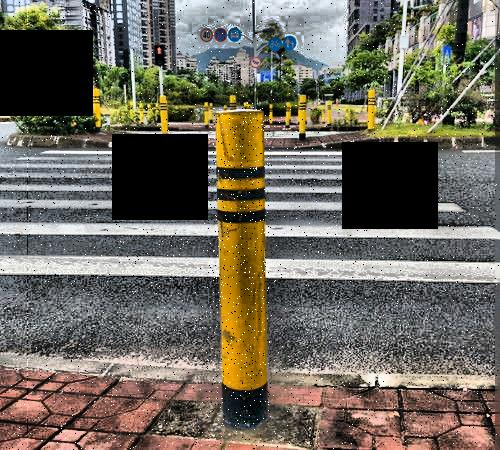bench: (206, 102, 272, 427)
